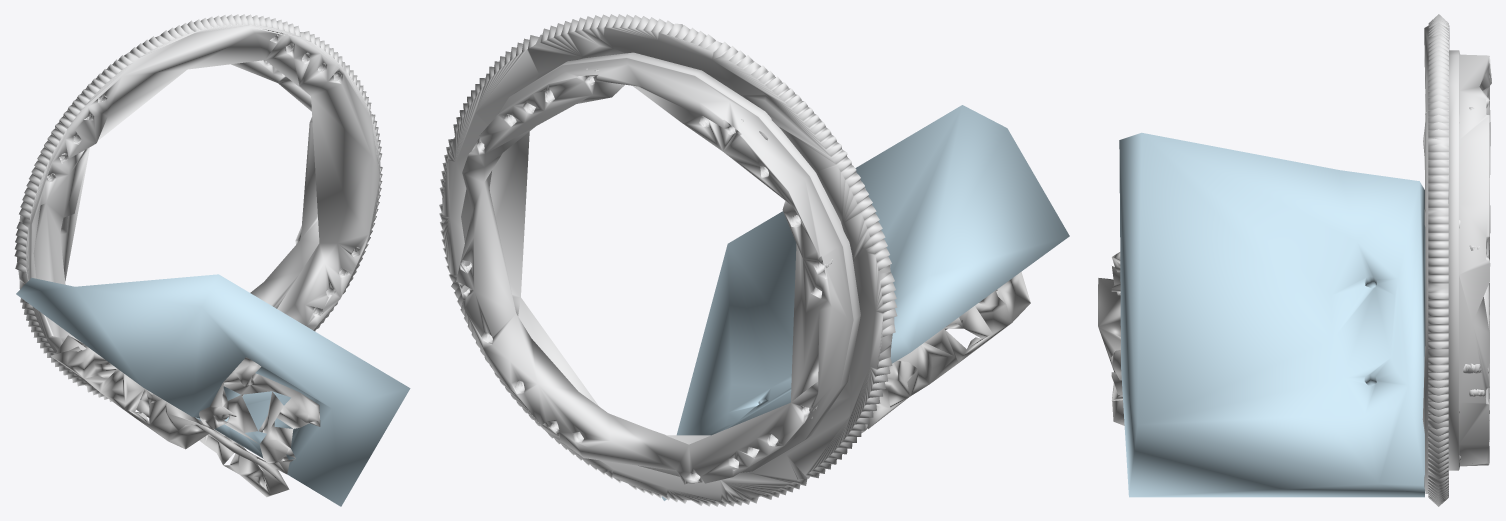
The picture shows the model from 3 angles, left to right: view 1: azimuth 30°, elevation 25°; view 2: azimuth 150°, elevation 25°; view 3: azimuth 270°, elevation 25°; orthographic projection. The views are drawn at different scales.
Visible parts, largest first — view 1: fixed wheel launcher <1> / 2026-09-17-10-27-35-299 <1> / 232, fixed wheel launcher <1> / Hood V59 <1>, fixed wheel launcher <1> / 3 Hole Lowside U-Channel (GB) <5>, fixed wheel launcher <1> / Mini Quad Block (GB) <1>, fixed wheel launcher <1> / 2026-09-17-10-27-35-299 <1> / 162, fixed wheel launcher <1> / Dual Block (GB) <11>; view 2: fixed wheel launcher <1> / 2026-09-17-10-27-35-299 <1> / 162, fixed wheel launcher <1> / Hood V59 <1>, fixed wheel launcher <1> / 2026-09-17-10-27-35-299 <1> / 232, fixed wheel launcher <1> / 3 Hole Lowside U-Channel (GB) <5>; view 3: fixed wheel launcher <1> / Hood V59 <1>, fixed wheel launcher <1> / 2026-09-17-10-27-35-299 <1> / 162, fixed wheel launcher <1> / 2026-09-17-10-27-35-299 <1> / 232, fixed wheel launcher <1> / 3 Hole Lowside U-Channel (GB) <5>, fixed wheel launcher <1> / Mini Quad Block (GB) <1>.
Boxes of the visible parts, box(x1,y1,x2,y2) form: fixed wheel launcher <1> / 2026-09-17-10-27-35-299 <1> / 232: box(14, 14, 382, 401); fixed wheel launcher <1> / Hood V59 <1>: box(16, 274, 410, 506); fixed wheel launcher <1> / 3 Hole Lowside U-Channel (GB) <5>: box(50, 344, 289, 497); fixed wheel launcher <1> / Mini Quad Block (GB) <1>: box(199, 357, 320, 474); fixed wheel launcher <1> / 2026-09-17-10-27-35-299 <1> / 162: box(231, 60, 319, 308); fixed wheel launcher <1> / Dual Block (GB) <11>: box(55, 335, 149, 417); fixed wheel launcher <1> / 2026-09-17-10-27-35-299 <1> / 162: box(456, 52, 860, 484); fixed wheel launcher <1> / Hood V59 <1>: box(661, 105, 1069, 500); fixed wheel launcher <1> / 2026-09-17-10-27-35-299 <1> / 232: box(439, 14, 897, 506); fixed wheel launcher <1> / 3 Hole Lowside U-Channel (GB) <5>: box(868, 272, 1030, 428); fixed wheel launcher <1> / Hood V59 <1>: box(1119, 132, 1425, 497); fixed wheel launcher <1> / 2026-09-17-10-27-35-299 <1> / 162: box(1448, 50, 1491, 470); fixed wheel launcher <1> / 2026-09-17-10-27-35-299 <1> / 232: box(1422, 14, 1449, 506); fixed wheel launcher <1> / 3 Hole Lowside U-Channel (GB) <5>: box(1098, 278, 1124, 425); fixed wheel launcher <1> / Mini Quad Block (GB) <1>: box(1111, 252, 1122, 400).
Size of the model in its own units: 0.1465 by 0.1473 by 0.1155.
